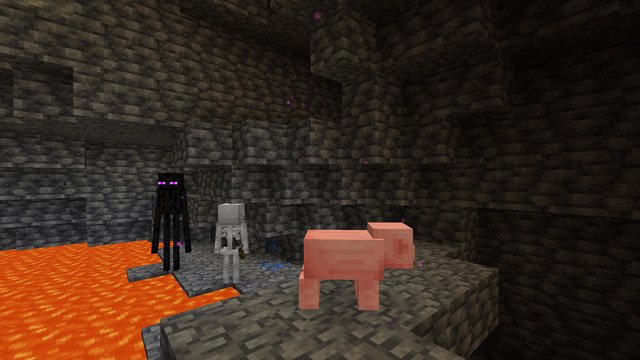cochons: (296, 224, 389, 323)
endermens: (157, 169, 184, 274)
squelettes: (215, 203, 247, 289)
